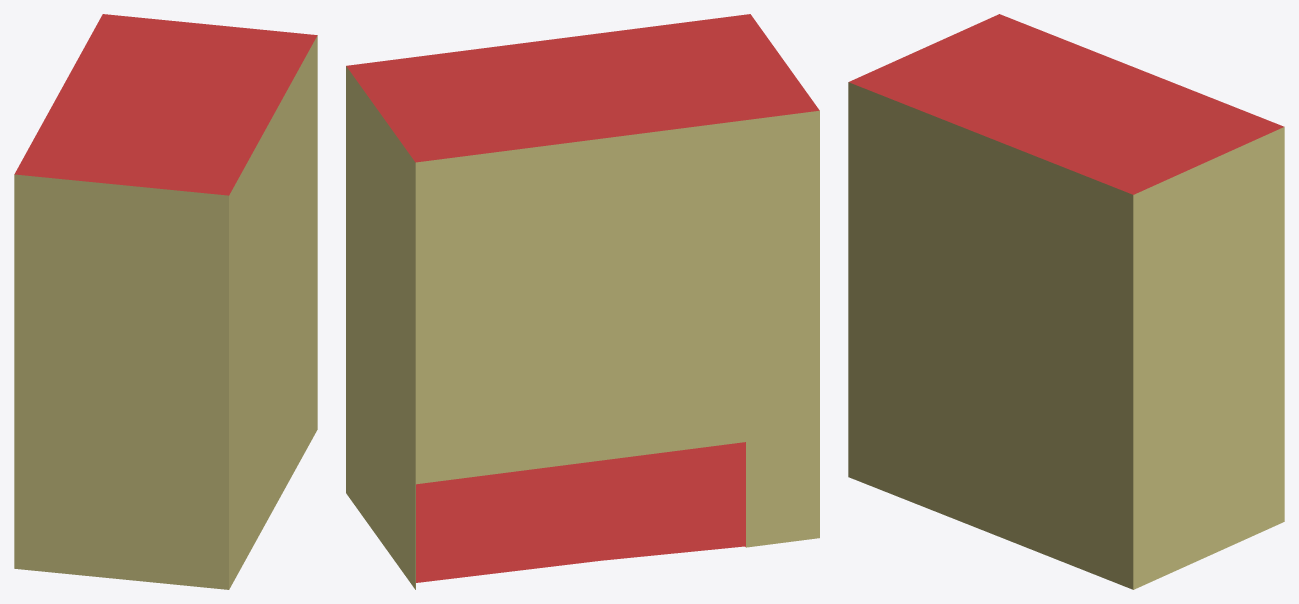
The picture shows the model from 3 angles, left to right: view 1: azimuth 30°, elevation 25°; view 2: azimuth 150°, elevation 25°; view 3: azimuth 270°, elevation 25°; orthographic projection. The views are drawn at different scales.
Parts seen in each view (by area): view 1: group_4, group_3; view 2: group_4, group_3, group_5; view 3: group_4, group_3.
Part boxes in pixels (x1=…): group_4: x1=14, y1=35, x2=317, y2=589; group_3: x1=14, y1=14, x2=317, y2=195; group_4: x1=346, y1=66, x2=819, y2=589; group_3: x1=346, y1=14, x2=819, y2=162; group_5: x1=416, y1=442, x2=745, y2=582; group_4: x1=848, y1=82, x2=1284, y2=589; group_3: x1=849, y1=14, x2=1284, y2=194.
Size of the model in its own units: 8.32 by 8.47 by 8.47.
